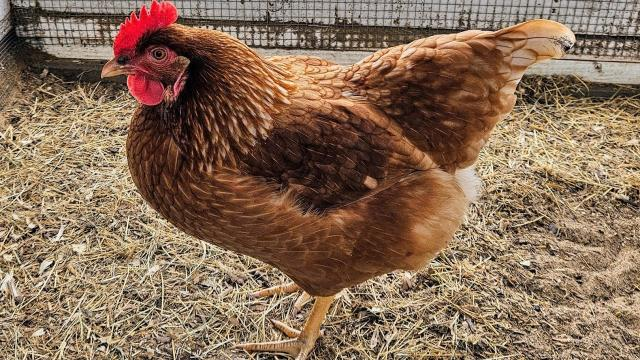Chicken: (101, 1, 576, 360)
